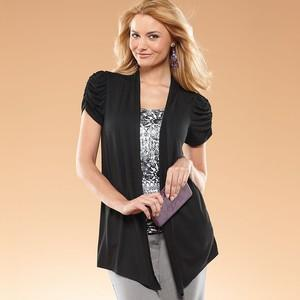C_cardigan sweater: (74, 68, 230, 290)
